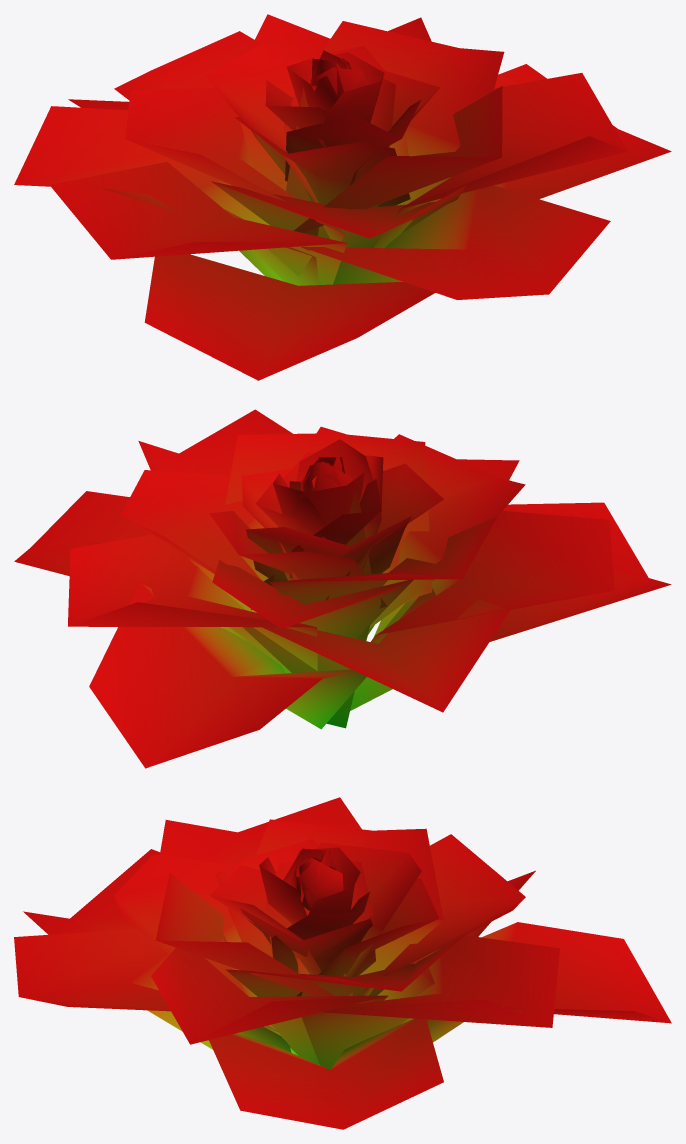
Rendered from Purple Ornamental Kale_LOD5_Var2_ugdieawja.fbx.
3 views of the same model, one above another, from view 1: azimuth 30°, elevation 25°; view 2: azimuth 150°, elevation 25°; view 3: azimuth 270°, elevation 25° (orthographic). The views are drawn at different scales.
Parts seen in each view (by area): view 1: _053b_Var2_LOD5; view 2: _053b_Var2_LOD5; view 3: _053b_Var2_LOD5.
Part boxes in pixels (x1,y1,x2,y2): _053b_Var2_LOD5: (14, 14, 671, 380); _053b_Var2_LOD5: (14, 409, 671, 768); _053b_Var2_LOD5: (14, 797, 671, 1129).
Size of the model in its own units: 57.97 by 27.71 by 62.4.
